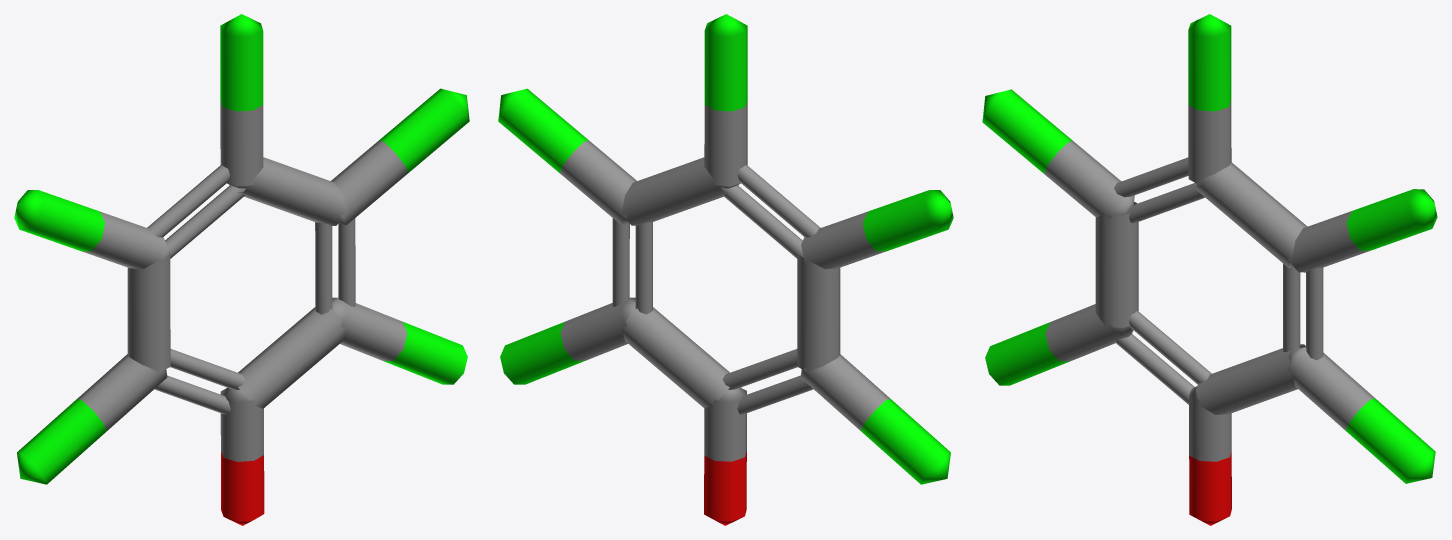
Rendered from pentachlorophenol.glb.
3 views of the same model, side by side, from view 1: azimuth 30°, elevation 25°; view 2: azimuth 150°, elevation 25°; view 3: azimuth 330°, elevation 25° (orthographic).
Visible parts, largest first — view 1: node-geom10; view 2: node-geom10; view 3: node-geom10.
Part boxes in pixels (bbox=[...]): node-geom10: bbox=[14, 14, 469, 525]; node-geom10: bbox=[498, 14, 953, 525]; node-geom10: bbox=[982, 14, 1437, 525].
Size of the model in its own units: 5.83 by 6.35 by 0.5032.
